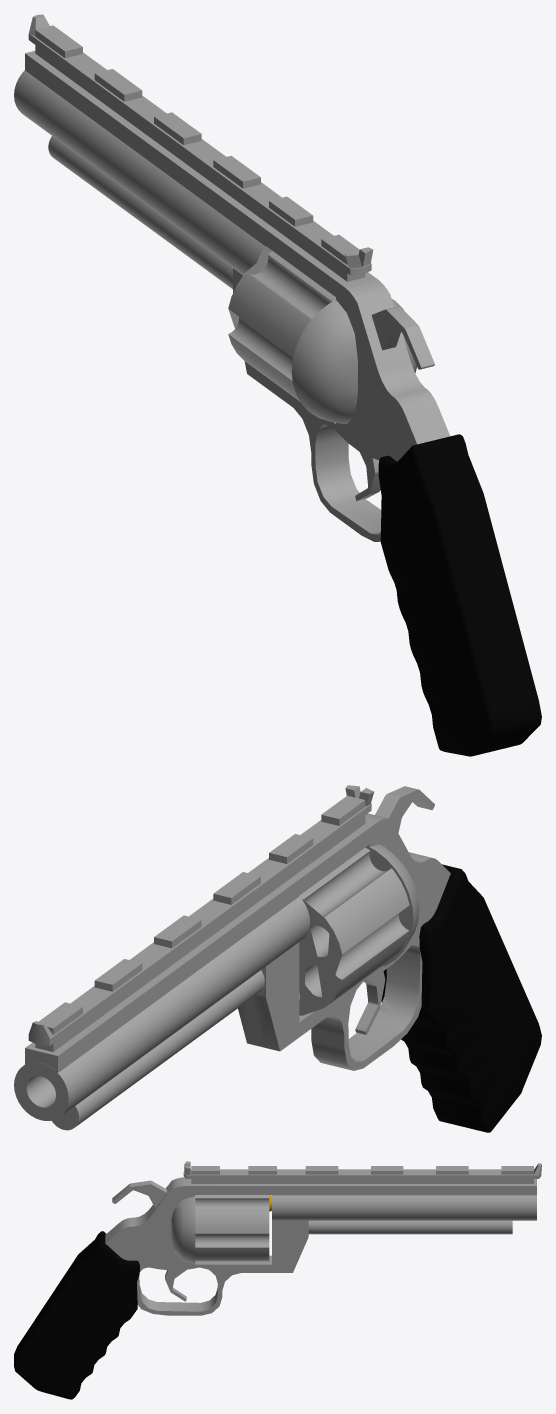
File: Revolver.fbx
The picture shows the model from 3 angles, top to bottom: view 1: azimuth 30°, elevation 25°; view 2: azimuth 150°, elevation 25°; view 3: azimuth 270°, elevation 25°; orthographic projection. The views are drawn at different scales.
Parts seen in each view (by area): view 1: Cylinder.002, Cylinder, Cube; view 2: Cylinder.002, Cylinder, Cube; view 3: Cylinder.002, Cylinder, Cube.
Boxes of the visible parts, <box> form: Cylinder.002: <box>14,14,541,756</box>; Cylinder: <box>228,251,335,401</box>; Cube: <box>355,306,434,500</box>; Cylinder.002: <box>14,785,541,1132</box>; Cylinder: <box>299,847,409,1015</box>; Cube: <box>355,786,434,1034</box>; Cylinder.002: <box>14,1161,541,1399</box>; Cylinder: <box>195,1195,269,1261</box>; Cube: <box>112,1180,186,1301</box>.
Size of the model in its own units: 253 by 825 by 1728.
